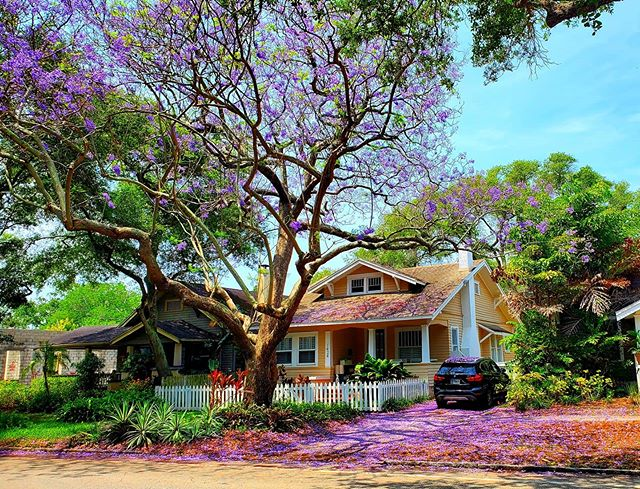building: (278, 256, 505, 402), (53, 282, 259, 399)
car: (429, 358, 511, 411)
tree: (1, 1, 453, 441), (364, 149, 638, 274)
